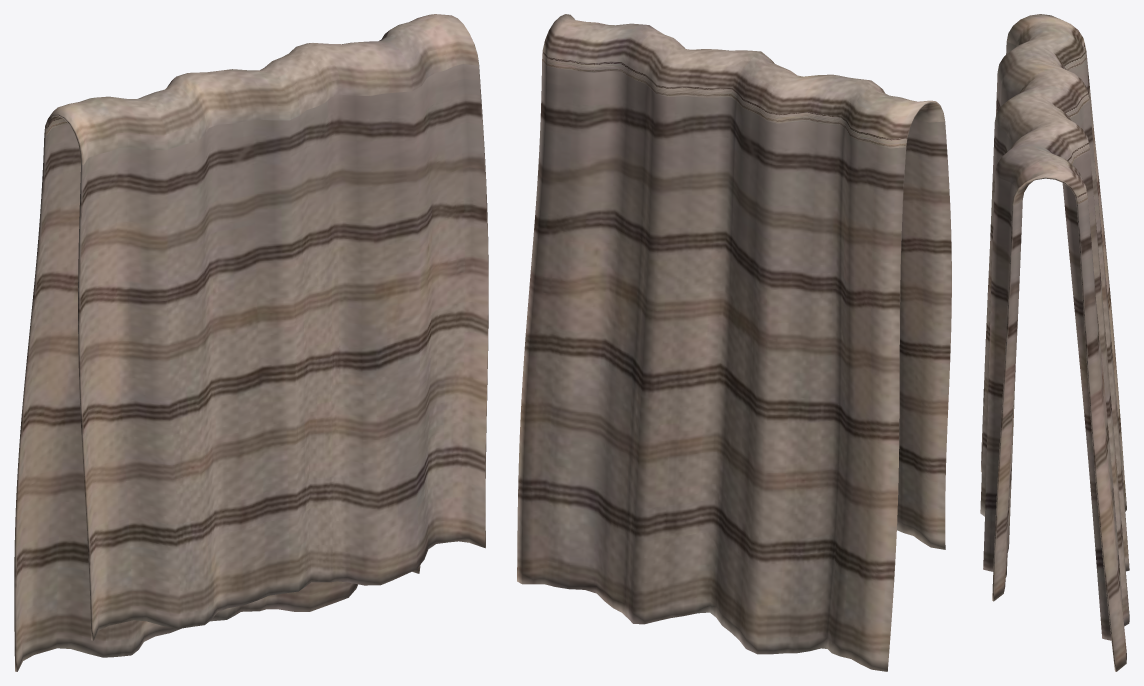
The model's file is range_oven__oven_towel.glb.
The picture shows the model from 3 angles, left to right: view 1: azimuth 30°, elevation 25°; view 2: azimuth 150°, elevation 25°; view 3: azimuth 270°, elevation 25°; orthographic projection. The views are drawn at different scales.
Parts seen in each view (by area): view 1: cloth; view 2: cloth; view 3: cloth.
Part boxes in pixels (x1=…): cloth: x1=14, y1=14, x2=488, y2=671; cloth: x1=517, y1=14, x2=951, y2=671; cloth: x1=980, y1=14, x2=1129, y2=671.
Bounding box in the file's own units: 0.2519 × 0.3463 × 0.0934.
Materials: 1 (1 with a texture image).
